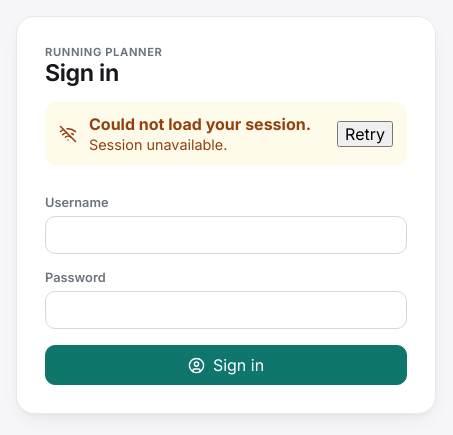
Scenario: App authentication states › recovers when the initial session check fails
expect the text "Could not load your session." is shown: met, box [89,114,311,134]
expect the button "Sign in" is enabled: met, box [45,345,407,385]
Click the button "Retry": [365, 134] box [337,121,393,147]
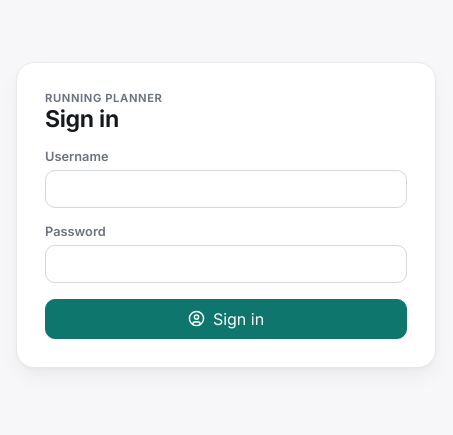
expect the heading "Sign in" is shown: met, box [45,105,119,133]
expect the text "Could not load your session." is gone: met
